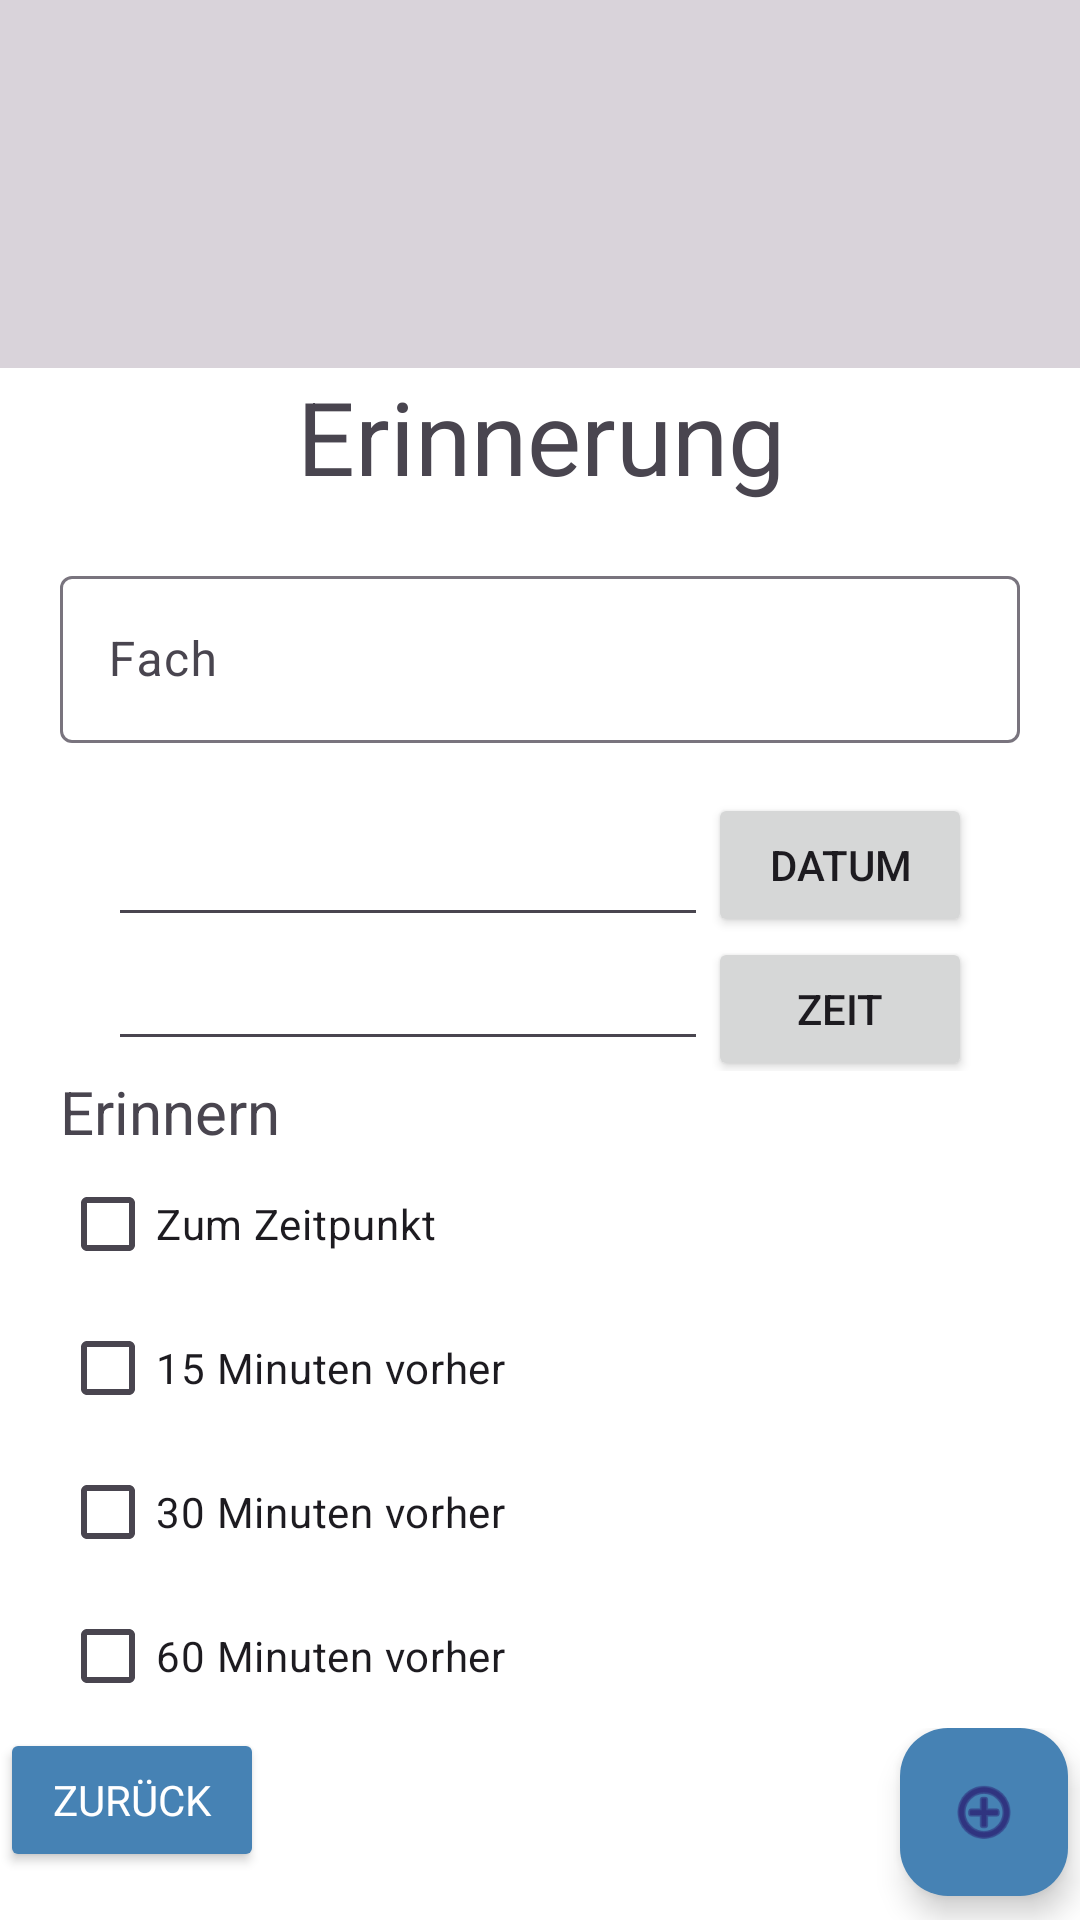

Icons on this 1080px x 1920px Android screen, each with its box as (x1, y1, x2, y2):
add: (900, 1728, 1068, 1896)
